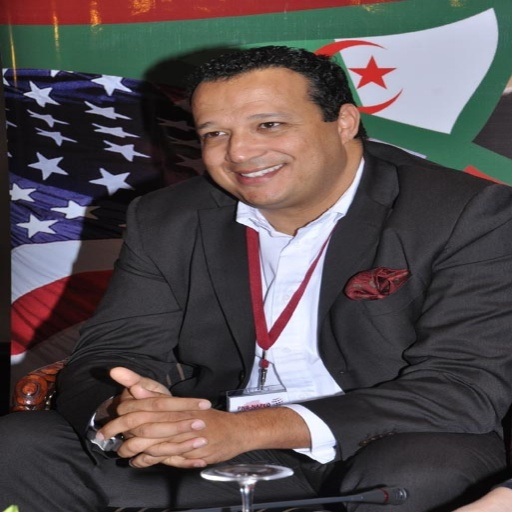hand: (90, 383, 251, 464), (451, 500, 511, 511)
